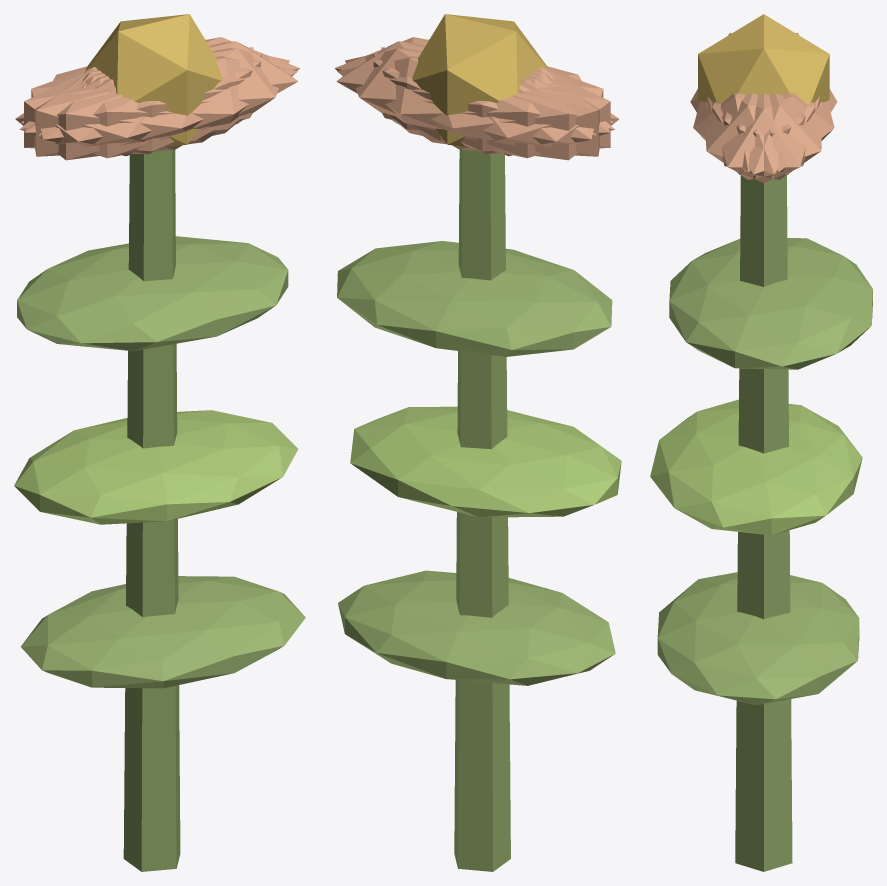
File: arachis-duranensis.glb
3 views of the same model, side by side, from view 1: azimuth 30°, elevation 25°; view 2: azimuth 150°, elevation 25°; view 3: azimuth 270°, elevation 25° (orthographic).
Visible parts, largest first — view 1: stem, leaf1, leaf0, leaf2, center, petal1, petal6, petal2, petal5, petal7, petal0, petal4 (+2 smaller); view 2: stem, leaf2, leaf1, leaf0, center, petal8, petal3, petal7, petal4, petal2, petal0, petal5 (+2 smaller); view 3: stem, leaf2, leaf1, leaf0, center, petal0, petal4, petal5, petal1, petal8.
Boxes of the visible parts, x1=… form: stem: x1=123, y1=149, x2=180, y2=871; leaf1: x1=14, y1=410, x2=298, y2=524; leaf0: x1=21, y1=576, x2=305, y2=688; leaf2: x1=17, y1=236, x2=288, y2=351; center: x1=85, y1=14, x2=222, y2=146; petal1: x1=19, y1=56, x2=297, y2=158; petal6: x1=15, y1=68, x2=216, y2=160; petal2: x1=34, y1=47, x2=253, y2=156; petal5: x1=38, y1=48, x2=289, y2=151; petal7: x1=24, y1=53, x2=261, y2=154; petal0: x1=85, y1=41, x2=298, y2=141; petal4: x1=21, y1=37, x2=299, y2=132; stem: x1=454, y1=149, x2=510, y2=871; leaf2: x1=337, y1=241, x2=612, y2=356; leaf1: x1=350, y1=406, x2=621, y2=517; leaf0: x1=338, y1=570, x2=615, y2=685; center: x1=412, y1=14, x2=549, y2=146; petal8: x1=337, y1=56, x2=614, y2=158; petal3: x1=418, y1=68, x2=618, y2=160; petal7: x1=381, y1=47, x2=599, y2=156; petal4: x1=345, y1=48, x2=595, y2=151; petal2: x1=373, y1=53, x2=610, y2=154; petal0: x1=336, y1=41, x2=549, y2=141; petal5: x1=334, y1=37, x2=613, y2=132; stem: x1=735, y1=175, x2=792, y2=871; leaf2: x1=669, y1=238, x2=872, y2=369; leaf1: x1=650, y1=399, x2=862, y2=535; leaf0: x1=657, y1=572, x2=859, y2=705; center: x1=698, y1=14, x2=829, y2=103; petal0: x1=707, y1=93, x2=820, y2=182; petal4: x1=712, y1=93, x2=821, y2=179; petal5: x1=705, y1=93, x2=815, y2=179; petal1: x1=693, y1=93, x2=805, y2=171; petal8: x1=722, y1=93, x2=834, y2=171.
Bounding box in the file's own units: 0.1452 × 0.4248 × 0.1036.
